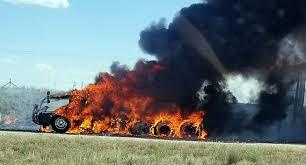fire: (52, 66, 210, 138)
